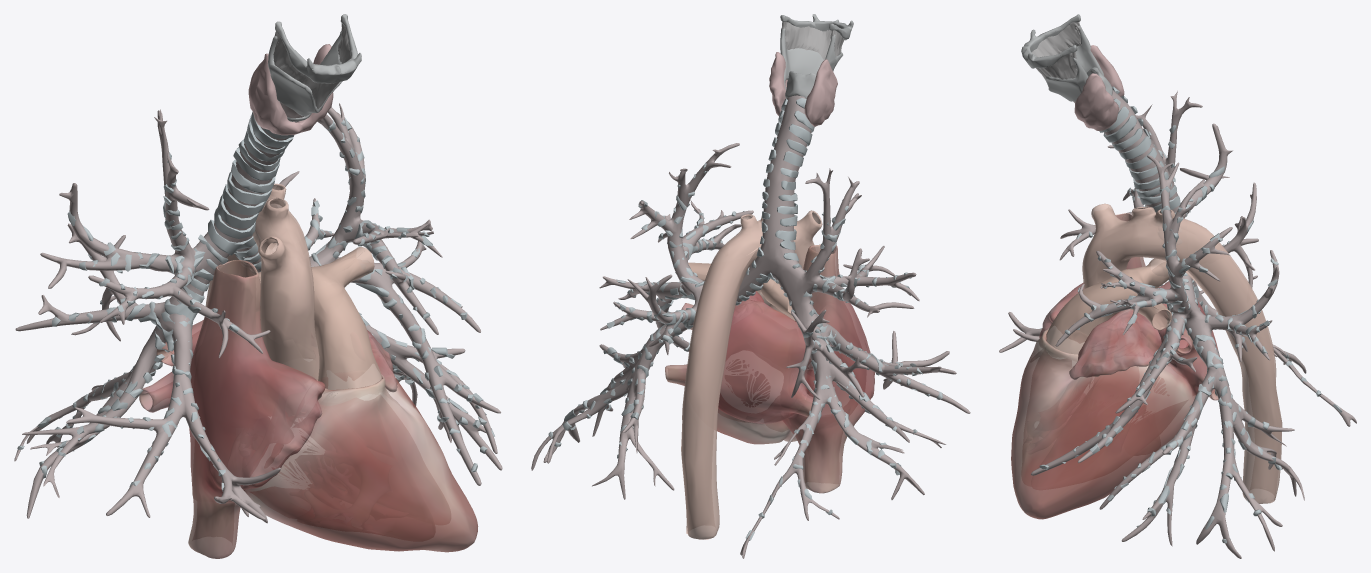
The picture shows the model from 3 angles, left to right: view 1: azimuth 30°, elevation 25°; view 2: azimuth 150°, elevation 25°; view 3: azimuth 270°, elevation 25°; orthographic projection. The views are drawn at different scales.
Parts seen in each view (by area): view 1: Heart, Trachea, Tracheal_cartilages, Htc, Thyroid_gland, Ligament; view 2: Heart, Trachea, Tracheal_cartilages, Htc, Thyroid_gland, Ligament; view 3: Heart, Trachea, Tracheal_cartilages, Htc, Thyroid_gland, Ligament.
Part boxes in pixels (x1,y1,x2,y2): Heart: (139,183,478,558); Trachea: (14,102,502,523); Tracheal_cartilages: (17,111,494,491); Htc: (267,14,361,121); Thyroid_gland: (248,44,333,135); Ligament: (273,23,350,108); Heart: (665,210,875,539); Trachea: (531,95,970,558); Tracheal_cartilages: (548,98,942,540); Htc: (780,14,853,98); Thyroid_gland: (769,52,837,126); Ligament: (781,21,844,60); Heart: (1011,203,1282,519); Trachea: (999,90,1356,558); Tracheal_cartilages: (1039,86,1342,543); Htc: (1021,14,1112,101); Thyroid_gland: (1074,45,1124,130); Ligament: (1031,22,1081,82).
Size of what is drawn, in the model's own units: 582 by 704 by 492.
